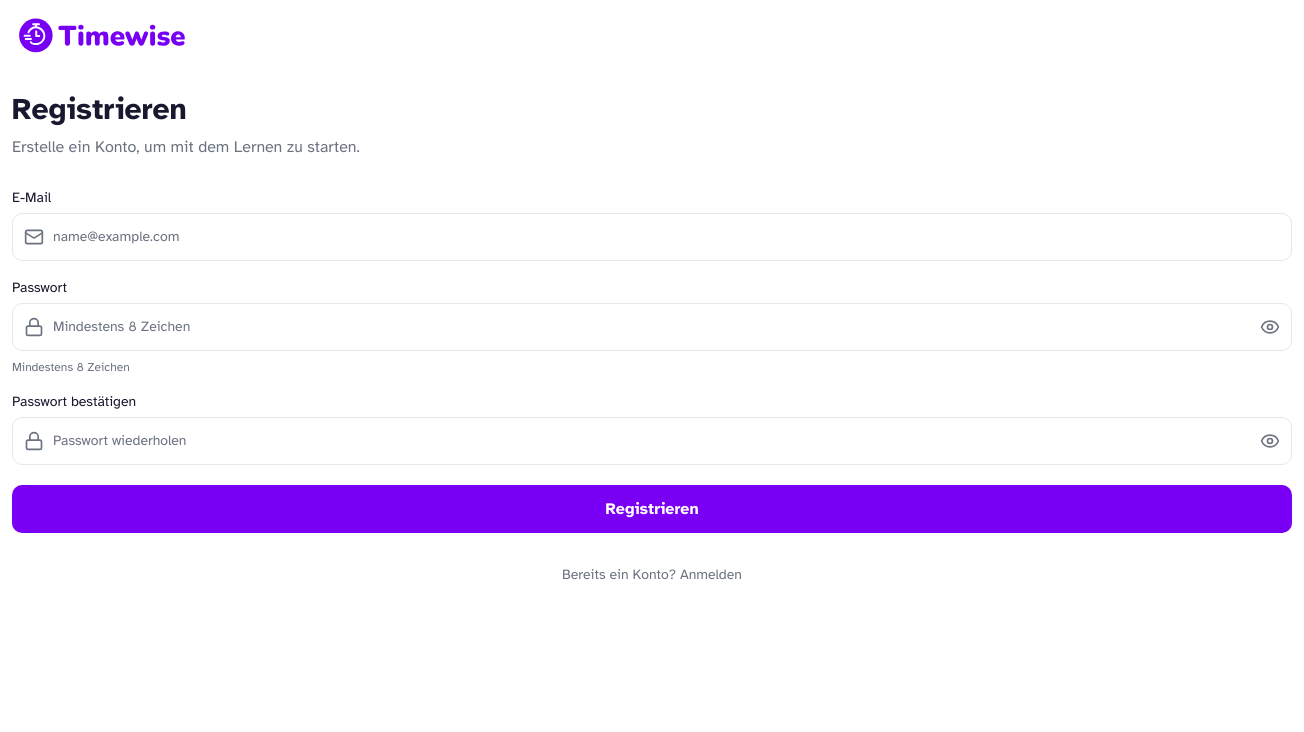
Scenario: RegisterPage › blocks submit when both passwords do not match
The width and height of the screenshot is (1304, 732).
Type "test@example.com" into the field with placeholder "name@example.com" at (652,237), box [12,213,1292,261]
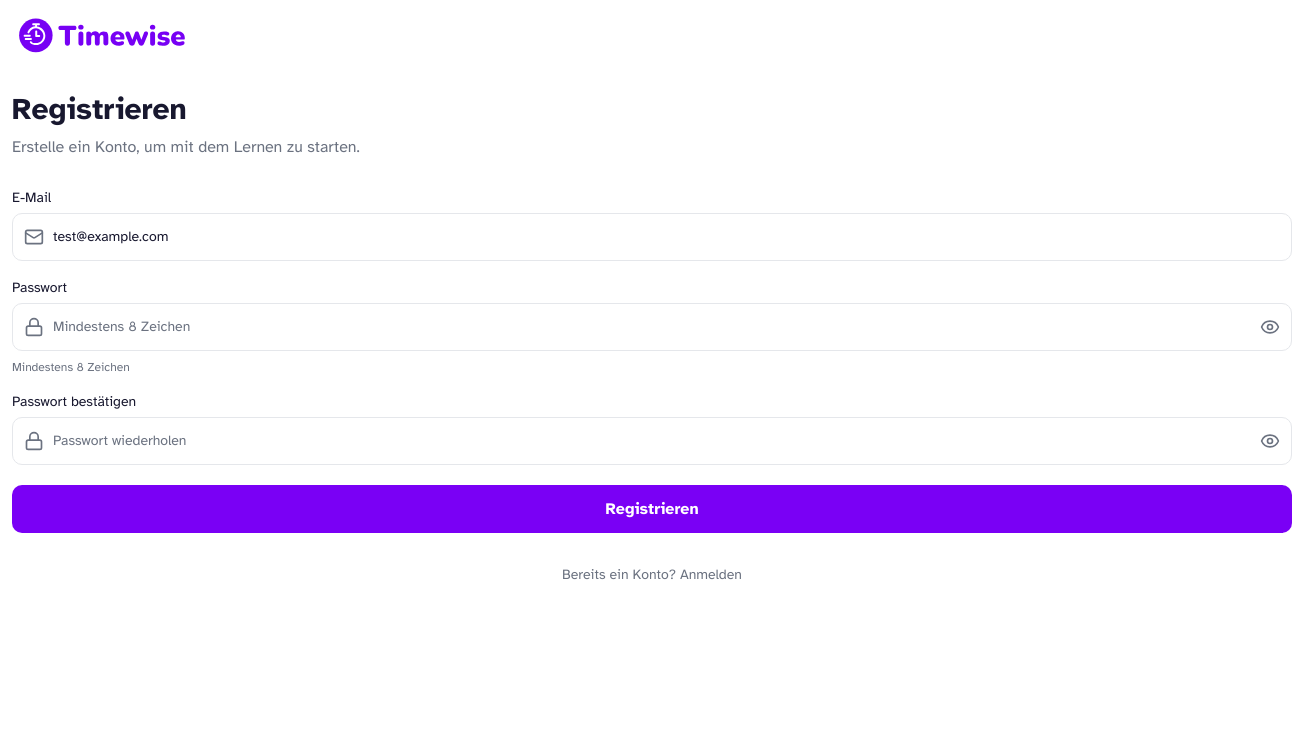
Type "12345678" into the password field with placeholder "Mindestens 8 Zeichen" at (652,327), box [12,303,1292,351]
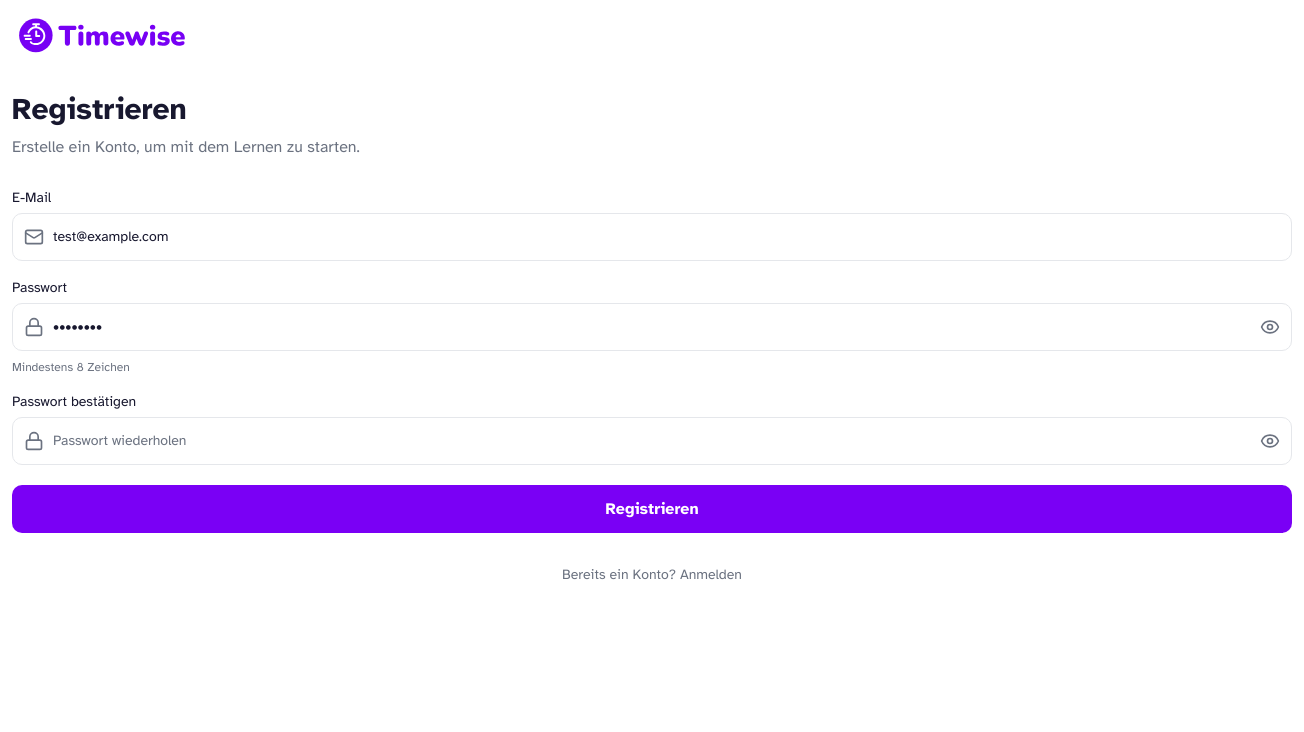
Type "12345679" into the password field with placeholder "Passwort wiederholen" at (652,441), box [12,417,1292,465]
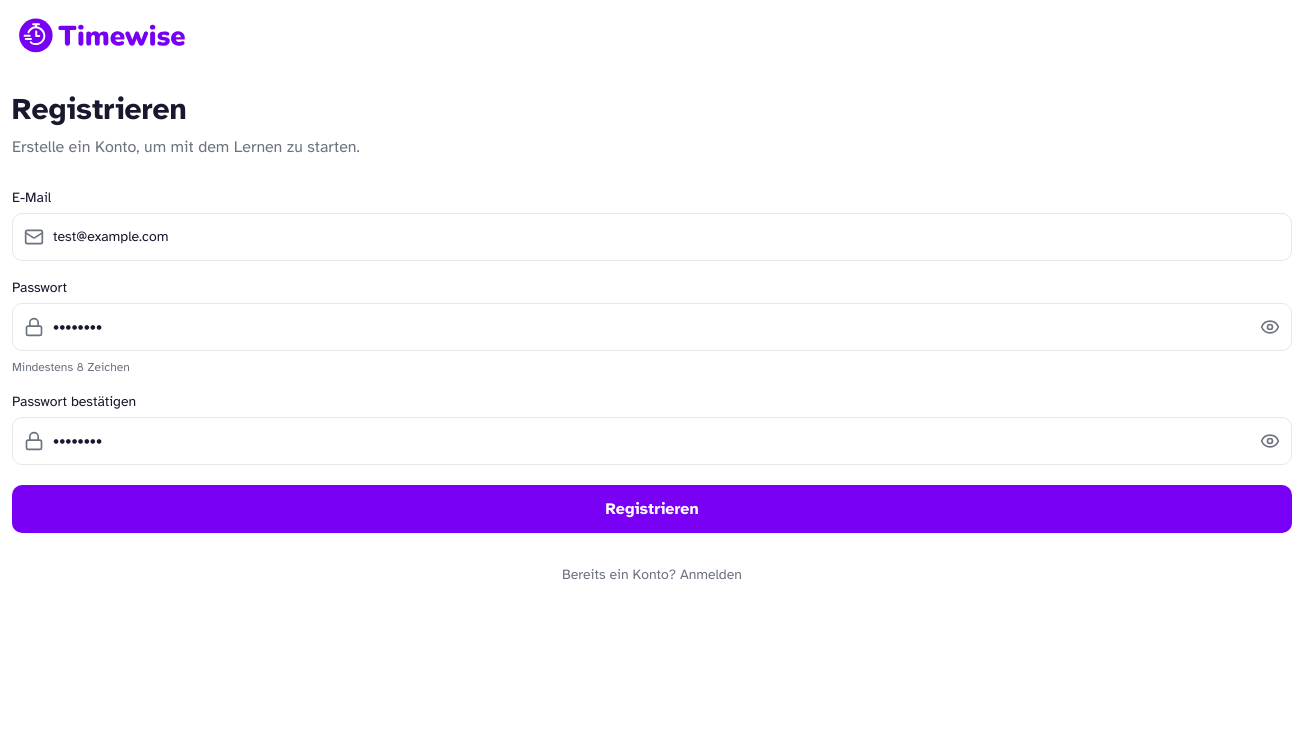
Click the button "Registrieren" at (652,509), box [12,485,1292,533]
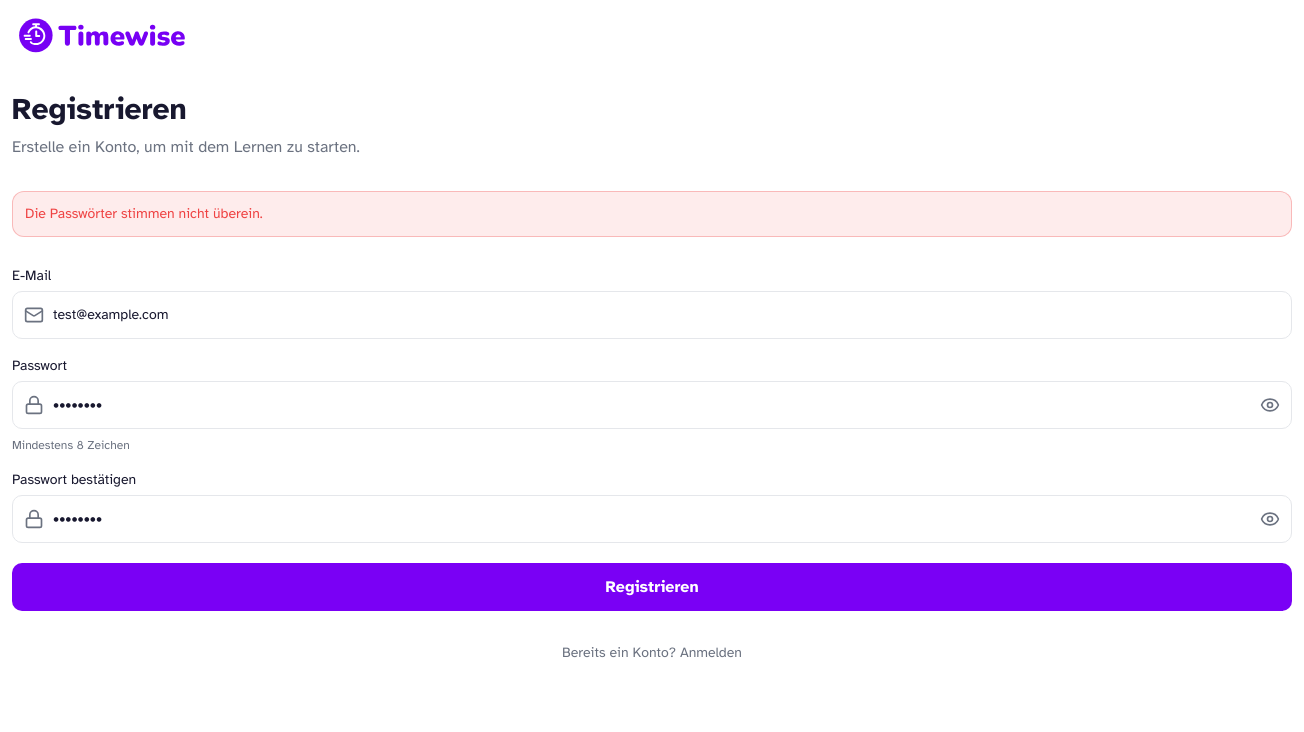
Expected: the text "Die Passwörter stimmen nicht überein." is shown, [12,191,1292,237]
